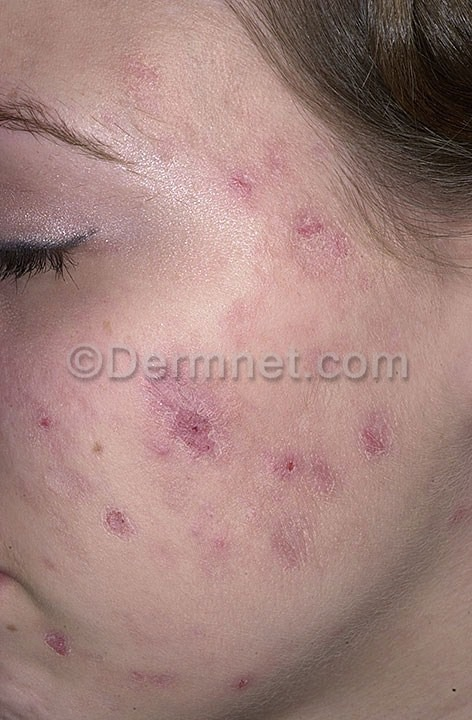Acne: (63, 154, 413, 629)
